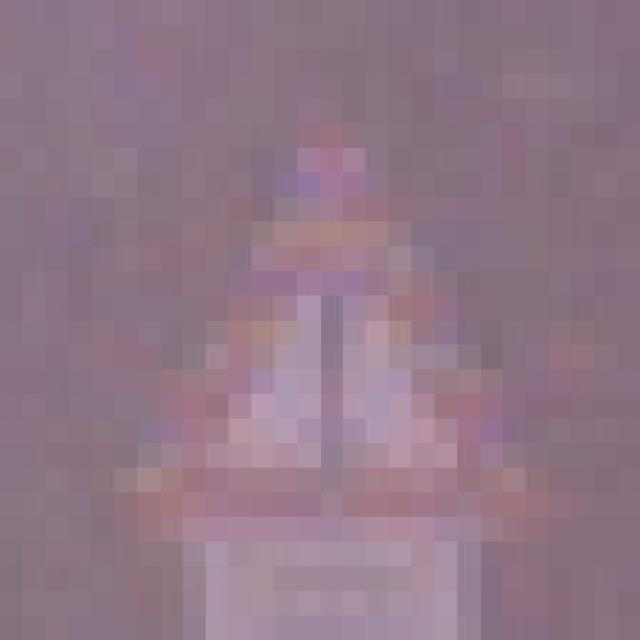Attention Please-: (115, 111, 527, 554)
